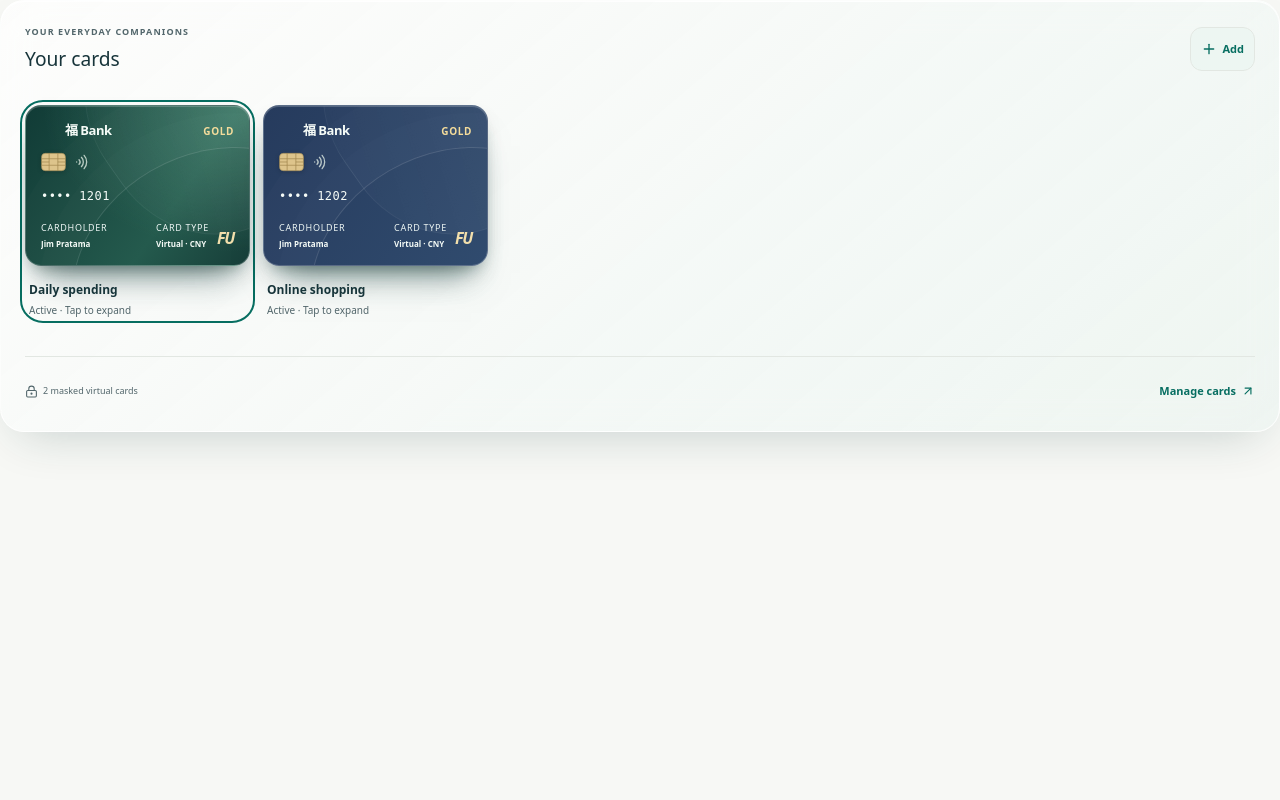
Test: expands a compact card and returns focus when closed with Escape
Click the button with aria-label "View daily spending card ending": coordinates (138, 212) [25,105,250,318]
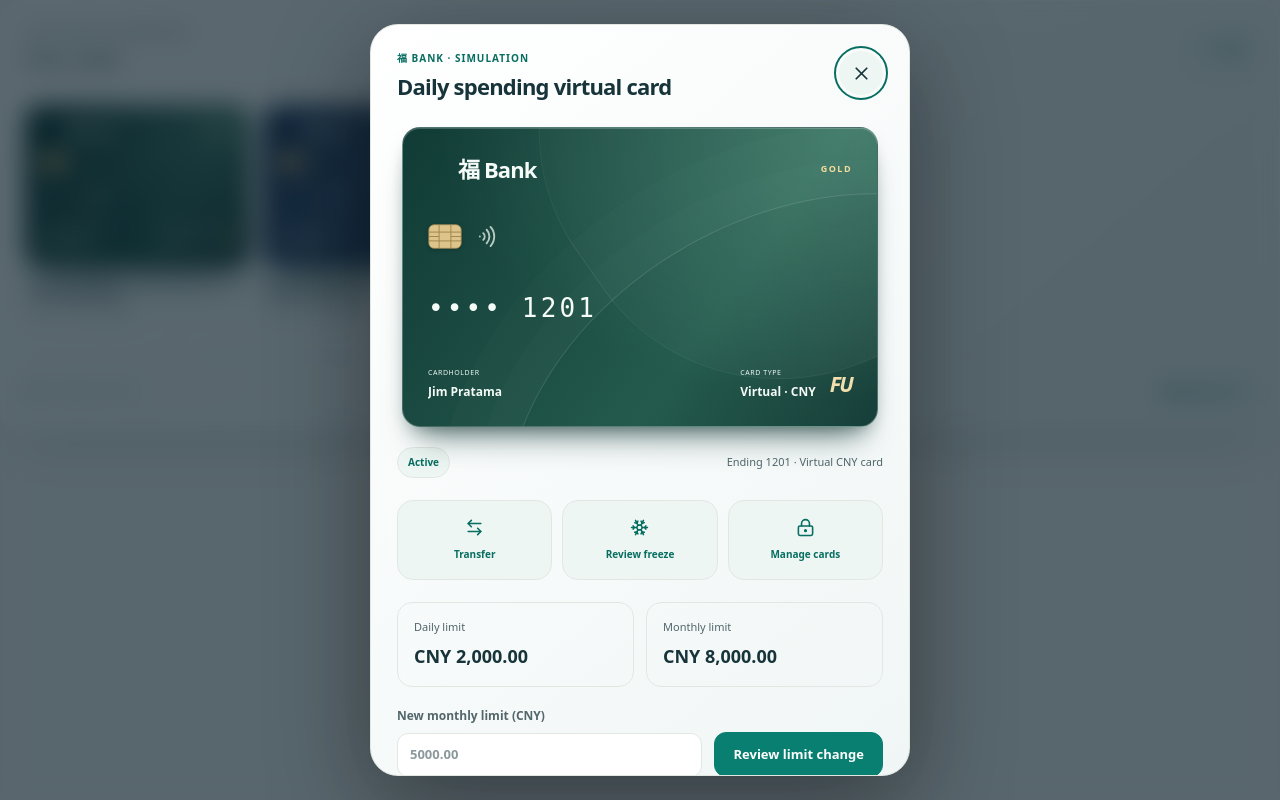
Check: the dialog "Daily spending virtual card" shows "Jim Pratama", box [428,383,502,400]
Check: the button "Review freeze" is shown, box [562,500,718,580]
Press Escape in the dialog "Daily spending virtual card", box [370,24,910,776]
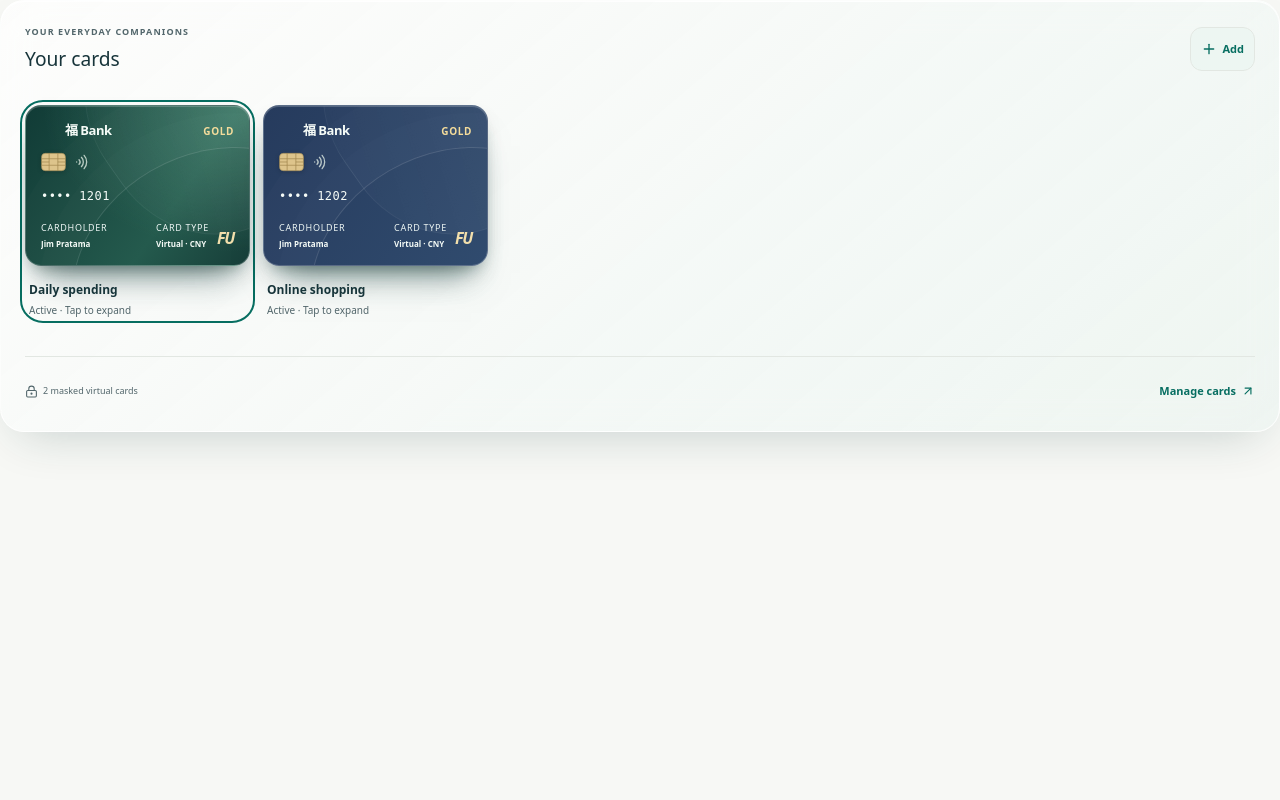
Check: the dialog is gone
